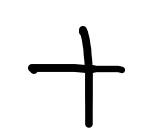plus: (28, 26, 123, 128)
